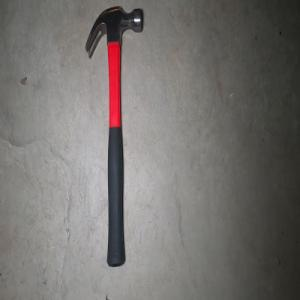Hammer: (84, 5, 143, 267)
